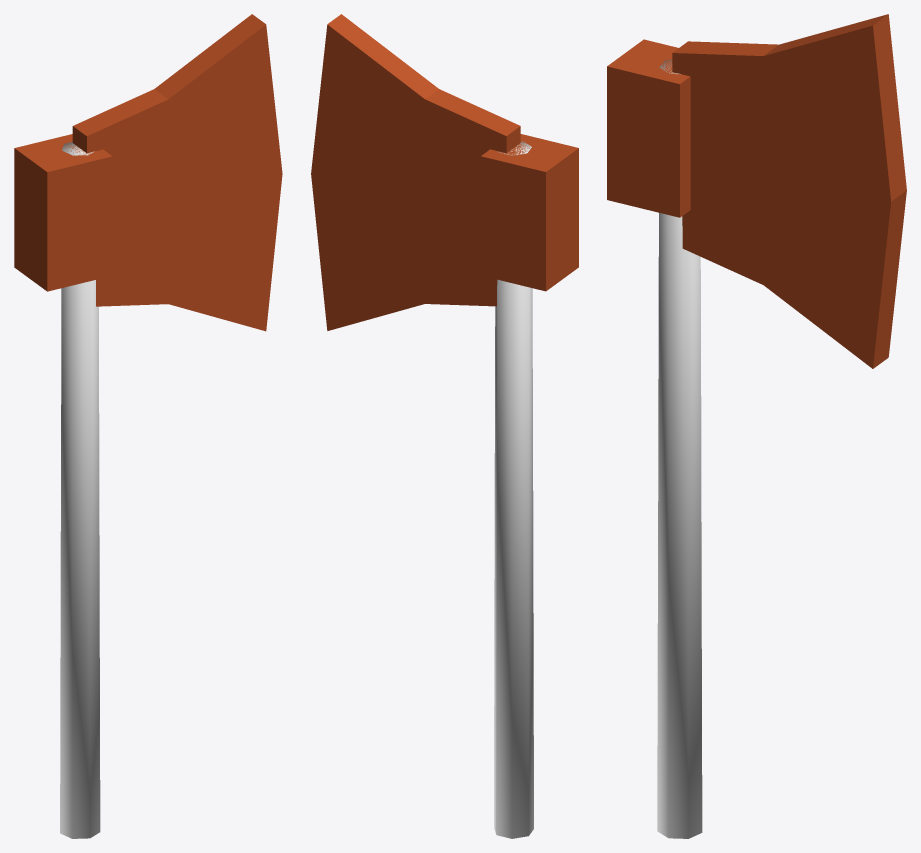
File: cinder_axe.glb
The picture shows the model from 3 angles, left to right: view 1: azimuth 30°, elevation 25°; view 2: azimuth 150°, elevation 25°; view 3: azimuth 330°, elevation 25°; orthographic projection. The views are drawn at different scales.
Visible parts, largest first — view 1: cinder_axe_v0; view 2: cinder_axe_v0; view 3: cinder_axe_v0.
Boxes of the visible parts, left/top/right/bottom form: cinder_axe_v0: left=14, top=14, right=282, bottom=838; cinder_axe_v0: left=311, top=14, right=578, bottom=838; cinder_axe_v0: left=607, top=14, right=906, bottom=838.
Size of the model in its own units: 0.3 by 0.9 by 0.07.
